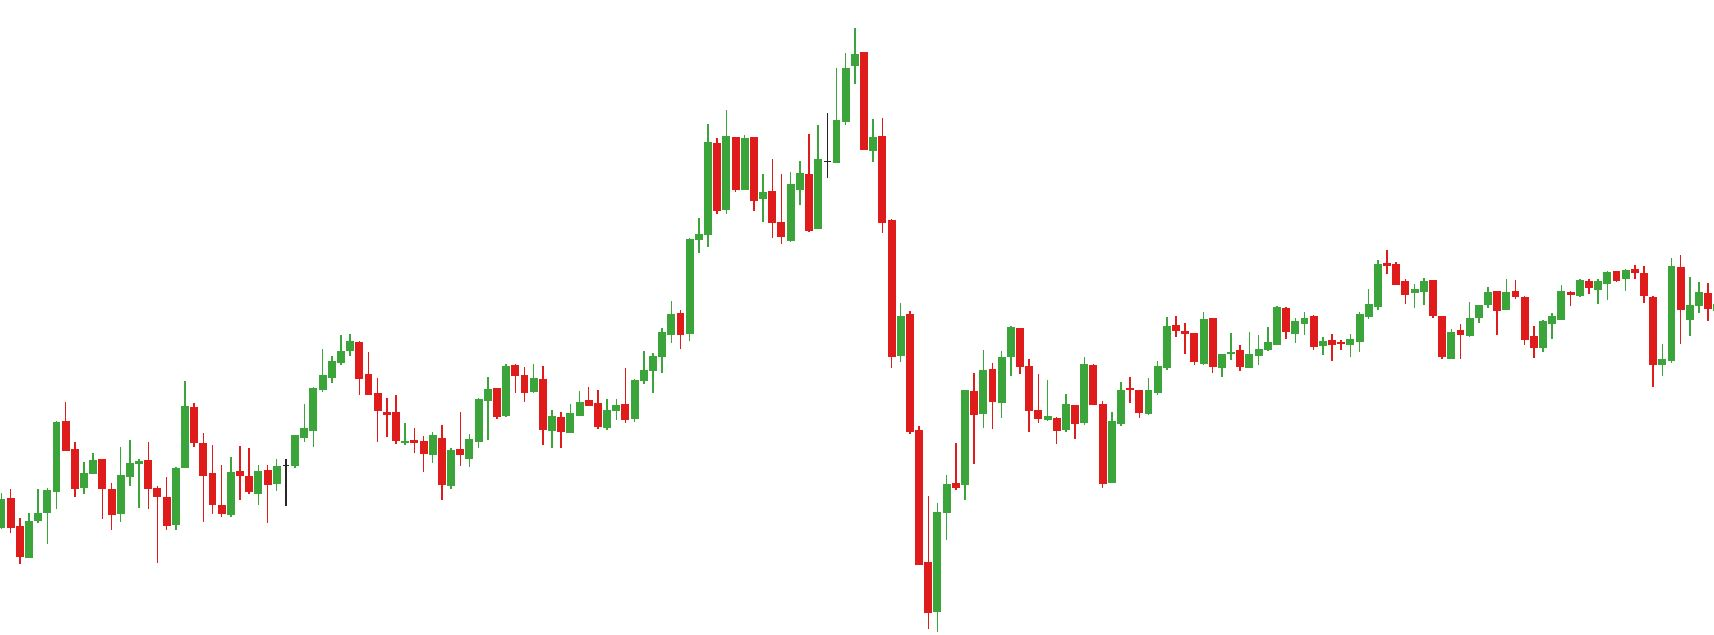buy: (1528, 281, 1677, 392), (106, 466, 183, 571), (1050, 377, 1117, 496)
sell: (717, 20, 869, 192)
